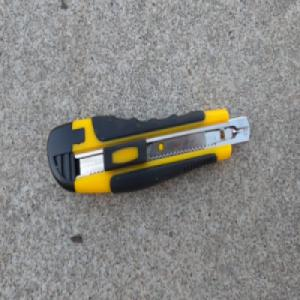Cutter: (45, 106, 250, 196)
